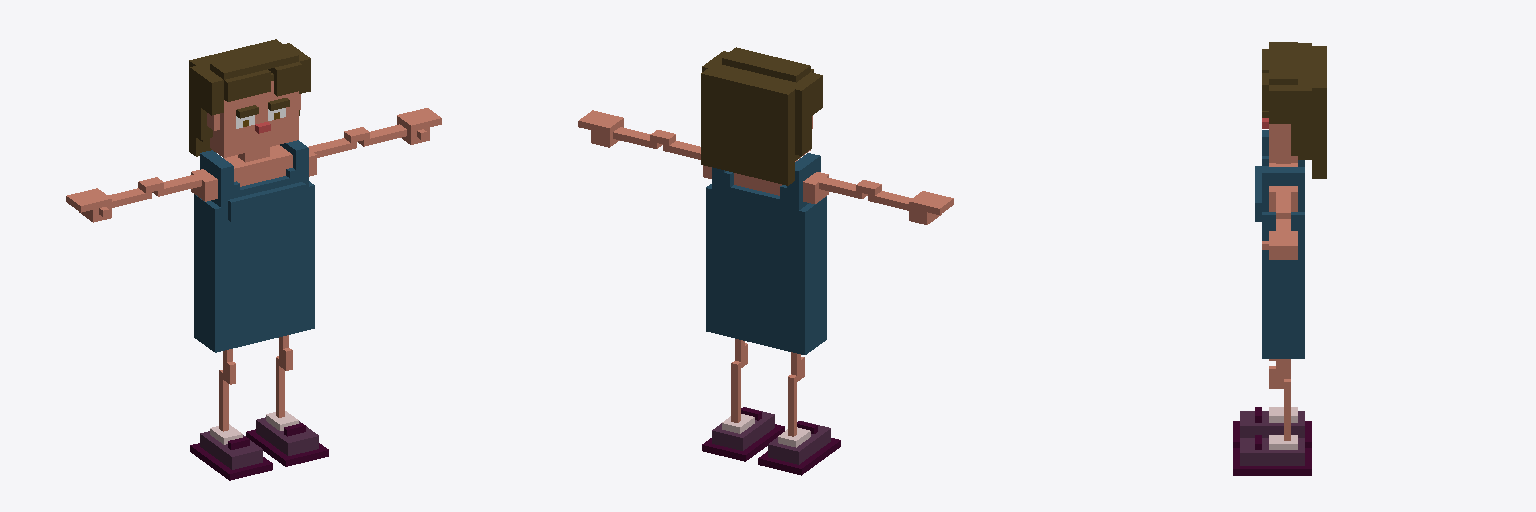
3 renders of one model, left to right at view 1: azimuth 30°, elevation 25°; view 2: azimuth 150°, elevation 25°; view 3: azimuth 270°, elevation 25°, orthographic.
Parts seen in each view (by area): view 1: object 1; view 2: object 1; view 3: object 1.
Part boxes in pixels (left/top/right/bottom): object 1: left=66, top=39, right=441, bottom=480; object 1: left=578, top=47, right=953, bottom=475; object 1: left=1233, top=42, right=1326, bottom=475.
Size of the model in its own units: 5.8 by 6 by 1.3.
Materials: 1 (1 with a texture image).